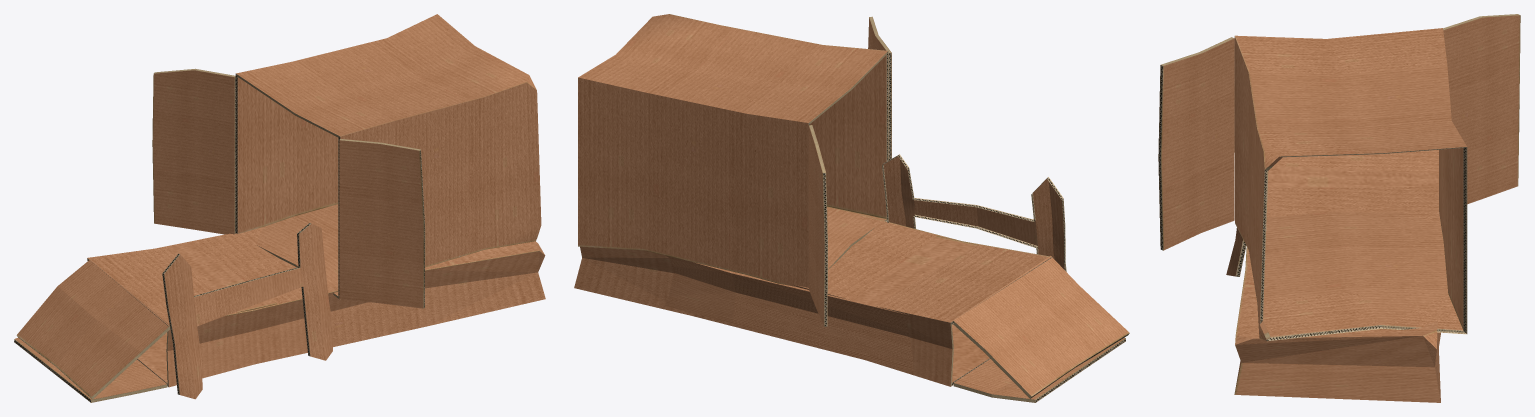
Rendered from Dock.FBX.
3 renders of one model, left to right at view 1: azimuth 30°, elevation 25°; view 2: azimuth 150°, elevation 25°; view 3: azimuth 270°, elevation 25°, orthographic. The views are drawn at different scales.
Visible parts, largest first — view 1: Dock, DockRamp; view 2: Dock, DockRamp; view 3: Dock.
Part boxes in pixels (<box>): Dock: <box>14,14,545,402</box>; DockRamp: <box>16,260,170,399</box>; Dock: <box>574,14,1125,402</box>; DockRamp: <box>953,256,1129,398</box>; Dock: <box>1158,14,1520,402</box>.
Bounding box in the file's own units: 4.93 × 2.25 × 2.96.
